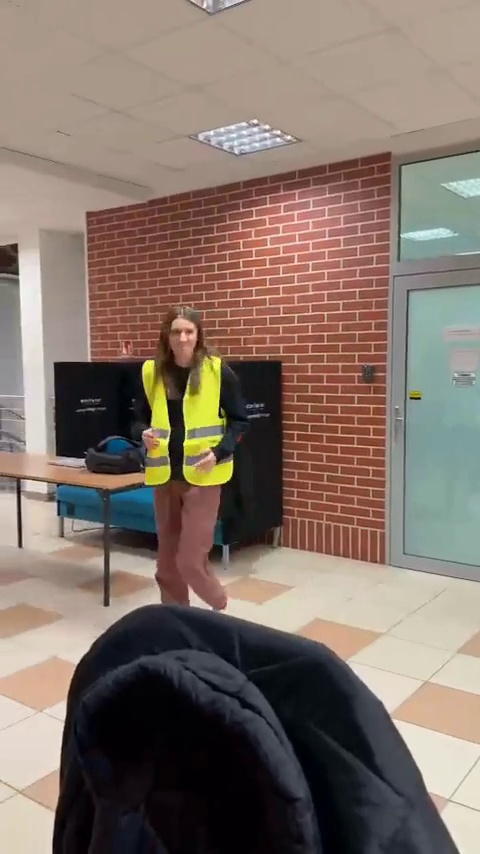vest: (130, 312, 243, 614)
